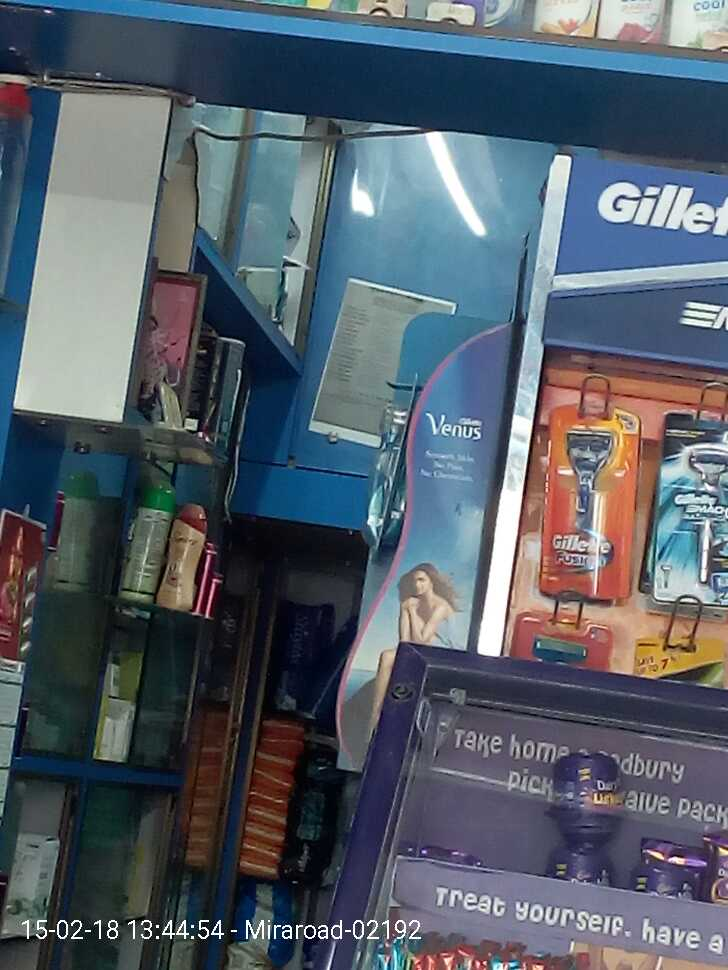gillette: (539, 401, 630, 606), (652, 413, 728, 599)
